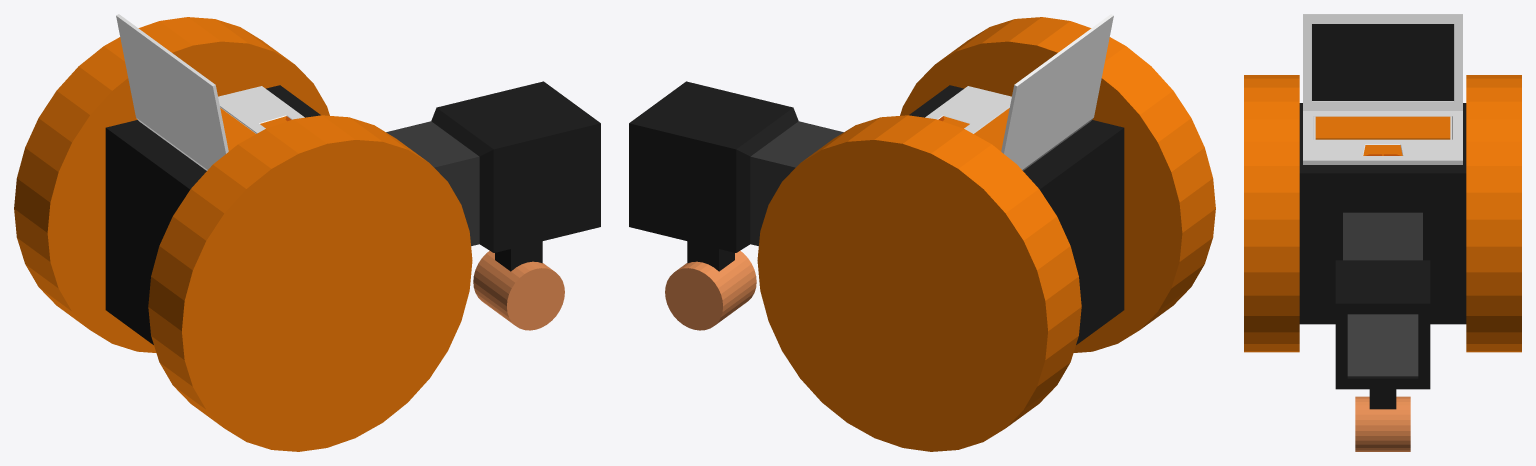
File: soldier.glb
3 views of the same model, side by side, from view 1: azimuth 30°, elevation 25°; view 2: azimuth 150°, elevation 25°; view 3: azimuth 270°, elevation 25° (orthographic). The views are drawn at different scales.
Parts seen in each view (by area): view 1: soldier; view 2: soldier; view 3: soldier.
Boxes of the visible parts, box(x1,y1,x2,y2) form: soldier: box(14, 14, 600, 451); soldier: box(629, 14, 1215, 451); soldier: box(1244, 14, 1521, 451).
Size of the model in its own units: 3.26 by 2.34 by 2.
2 materials, 2 textured.
